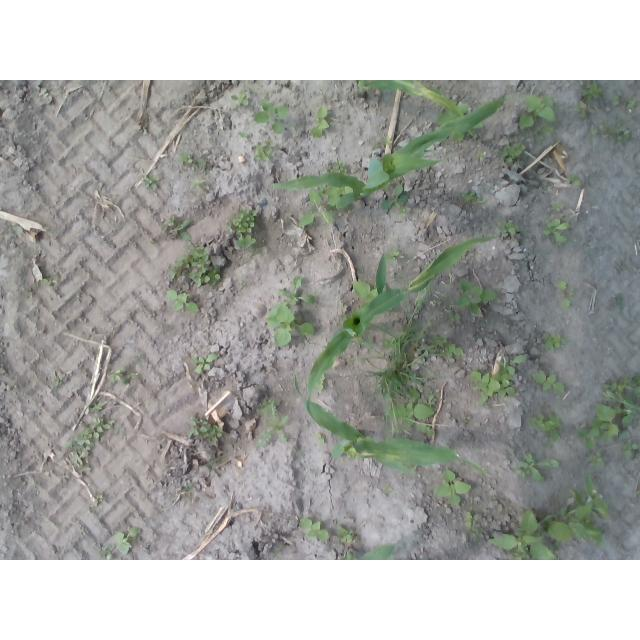Maize: (305, 235, 499, 432), (272, 94, 509, 210), (294, 375, 491, 476), (354, 80, 475, 137), (335, 544, 394, 561)
Weeds: (360, 276, 442, 401), (488, 476, 610, 560), (575, 375, 640, 449), (472, 355, 527, 404), (256, 401, 301, 456), (64, 416, 113, 465), (168, 244, 220, 287), (266, 305, 315, 348), (435, 100, 484, 141), (518, 93, 555, 144), (386, 389, 437, 425), (298, 186, 339, 227), (227, 209, 262, 255), (455, 278, 498, 314), (516, 453, 560, 484), (436, 470, 473, 506), (253, 99, 290, 135), (589, 119, 633, 146), (276, 276, 316, 305), (529, 411, 564, 441), (186, 417, 222, 444), (381, 184, 410, 216), (431, 334, 466, 359), (162, 215, 193, 241), (166, 290, 199, 313), (299, 517, 330, 541), (531, 372, 566, 393), (543, 217, 570, 243), (498, 142, 527, 165), (309, 106, 329, 138), (115, 528, 139, 554), (353, 280, 379, 304), (541, 331, 568, 353), (190, 353, 218, 374), (465, 512, 483, 544), (555, 280, 574, 309), (179, 152, 206, 172), (253, 141, 275, 163), (578, 80, 602, 100), (612, 94, 640, 111), (496, 218, 520, 236), (620, 440, 640, 461), (457, 190, 483, 205), (336, 525, 357, 543), (109, 368, 132, 384), (587, 451, 606, 470), (327, 158, 348, 175), (48, 372, 66, 389), (342, 441, 358, 459), (231, 91, 250, 106), (385, 247, 404, 262), (573, 100, 587, 120), (142, 174, 160, 189), (417, 424, 435, 437), (99, 544, 113, 560), (567, 173, 582, 187), (191, 179, 205, 194), (446, 310, 462, 323), (88, 402, 104, 413), (383, 338, 396, 350), (551, 201, 565, 211), (405, 462, 420, 471), (93, 492, 104, 504), (477, 150, 487, 163), (207, 457, 218, 468), (42, 279, 59, 286), (317, 433, 326, 444), (394, 277, 408, 284), (182, 485, 195, 492), (13, 223, 24, 231), (382, 136, 391, 145), (616, 295, 624, 304), (383, 487, 393, 494), (237, 131, 247, 138), (428, 301, 438, 308)
